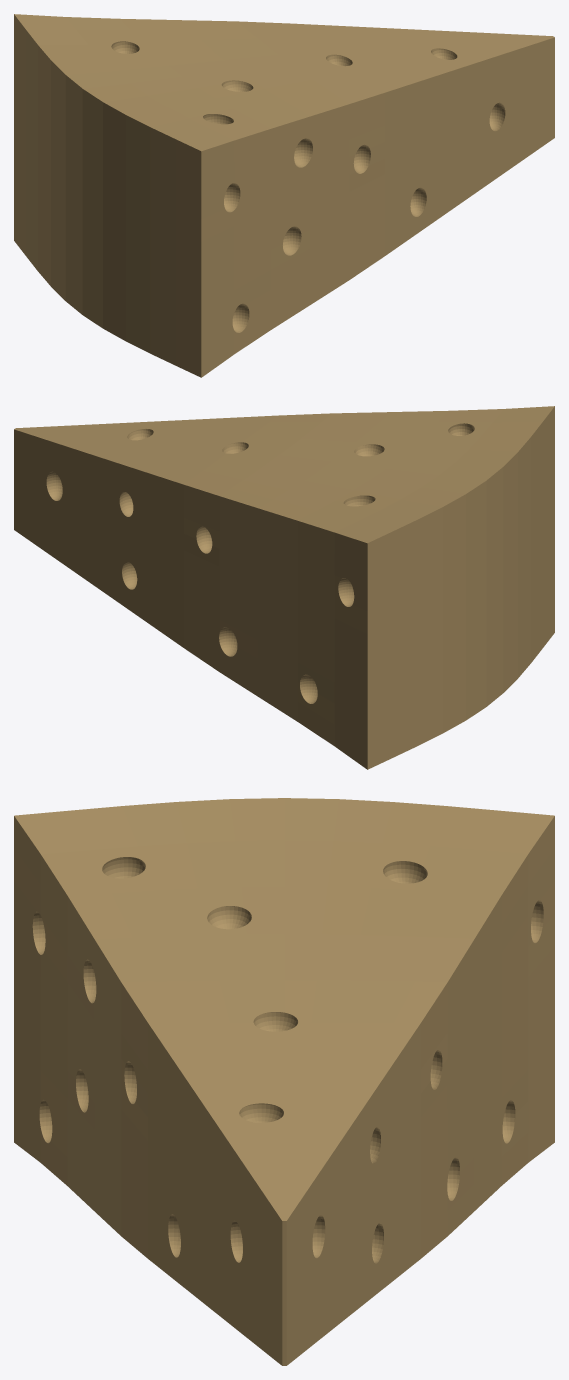
Rendered from Cheese1.fbx.
The picture shows the model from 3 angles, top to bottom: view 1: azimuth 30°, elevation 25°; view 2: azimuth 150°, elevation 25°; view 3: azimuth 270°, elevation 25°; orthographic projection. The views are drawn at different scales.
Visible parts, largest first — view 1: Cheese; view 2: Cheese; view 3: Cheese.
Boxes of the visible parts, <box> form: Cheese: <box>14,14,554,377</box>; Cheese: <box>14,406,554,769</box>; Cheese: <box>14,798,554,1365</box>.
Bounding box in the file's own units: 174 × 80 × 120.
